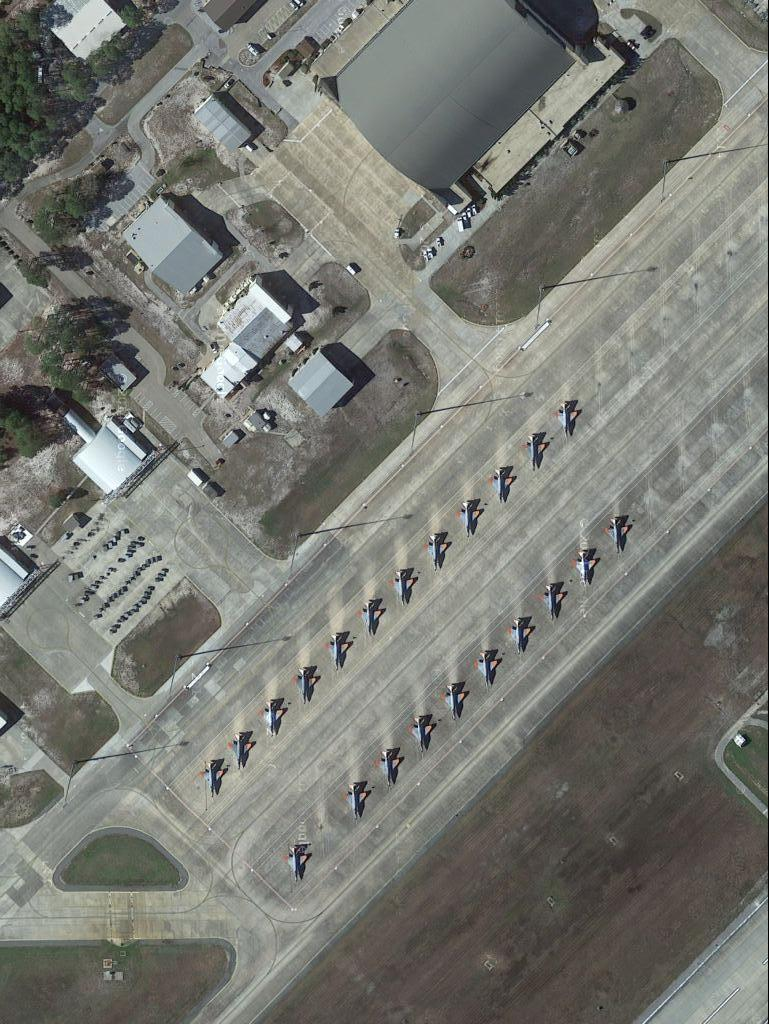plane: (278, 839, 315, 889), (340, 774, 375, 824), (386, 562, 420, 610), (569, 541, 603, 589), (601, 510, 634, 559), (551, 396, 583, 444), (472, 646, 503, 695), (371, 745, 404, 791), (438, 680, 473, 723), (198, 754, 230, 801), (408, 706, 438, 756), (420, 528, 452, 573), (356, 595, 388, 640), (257, 694, 287, 742), (453, 496, 485, 540), (520, 430, 551, 475), (323, 630, 354, 675), (505, 611, 536, 656), (227, 727, 256, 775), (538, 577, 567, 624), (486, 462, 517, 505), (291, 662, 320, 706)
